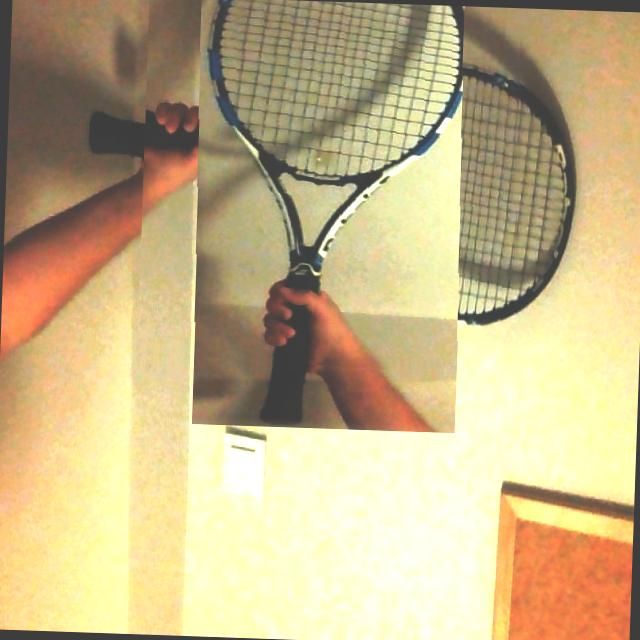TennisRacket: (135, 0, 525, 378)
